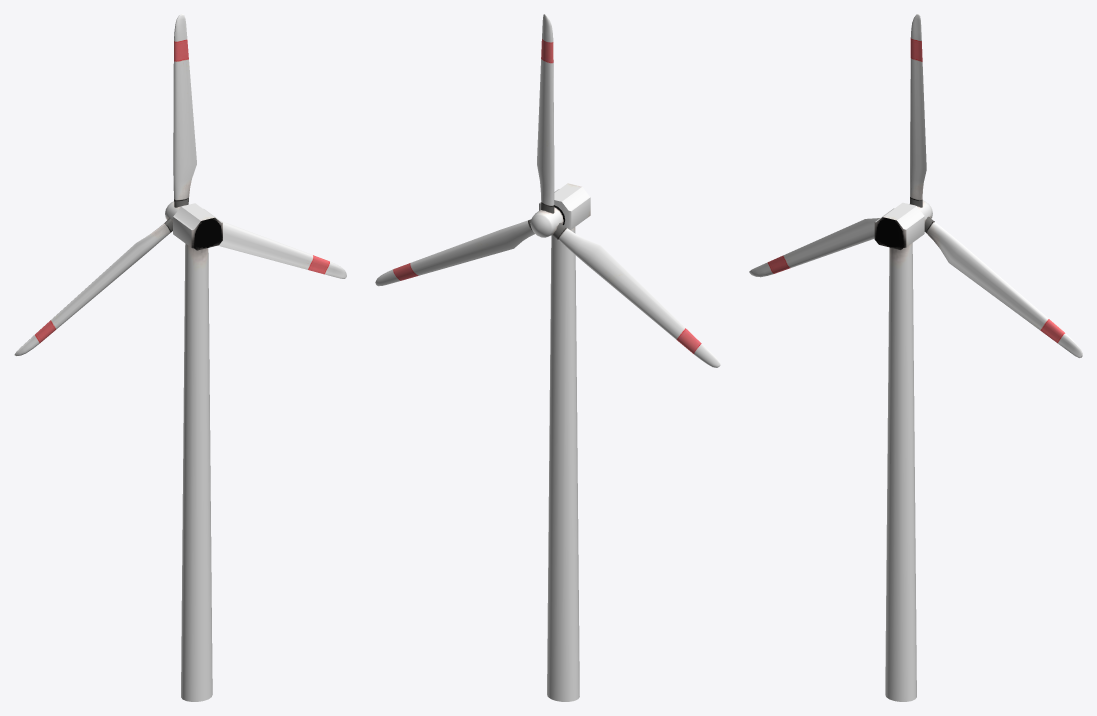
Rendered from windrad.glb.
3 views of the same model, side by side, from view 1: azimuth 30°, elevation 25°; view 2: azimuth 150°, elevation 25°; view 3: azimuth 330°, elevation 25° (orthographic). The views are drawn at different scales.
Parts seen in each view (by area): view 1: Object_4, Object_6; view 2: Object_4, Object_6; view 3: Object_4, Object_6.
Part boxes in pixels (left/top/right/bottom): Object_4: left=173, top=203, right=222, bottom=701; Object_6: left=14, top=14, right=346, bottom=356; Object_4: left=539, top=183, right=590, bottom=701; Object_6: left=375, top=14, right=720, bottom=367; Object_4: left=874, top=202, right=924, bottom=701; Object_6: left=749, top=14, right=1082, bottom=357.
Size of the model in its own units: 9.65 by 18.59 by 1.79.
2 materials, 2 textured.
